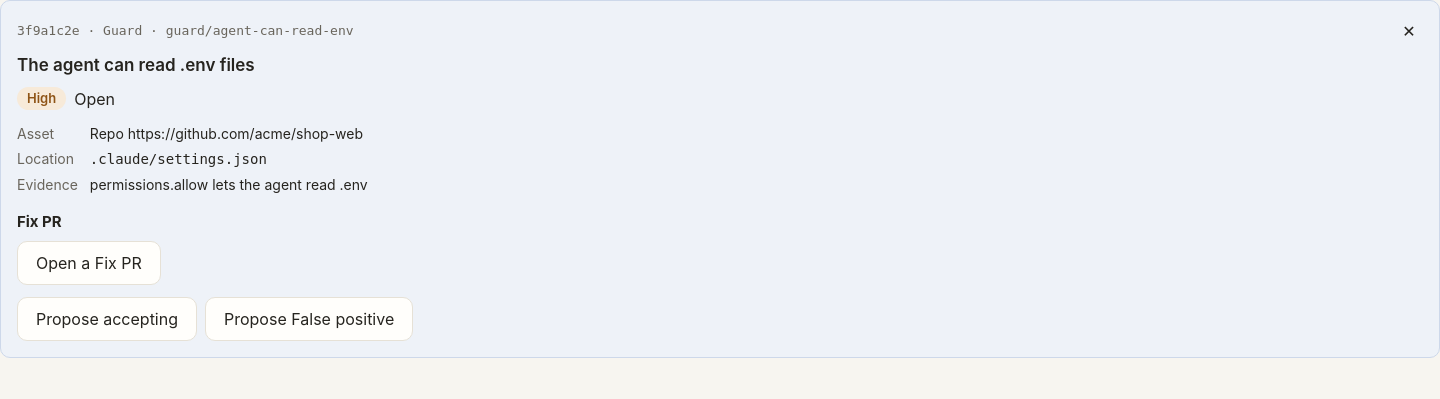
Test: opening a Fix PR › a 409 shows the server's words in an alert, asks both reads again and says the Finding changed; a grant gone hides the button
Click the button "Open a Fix PR" at [89, 263], box [17, 241, 161, 285]
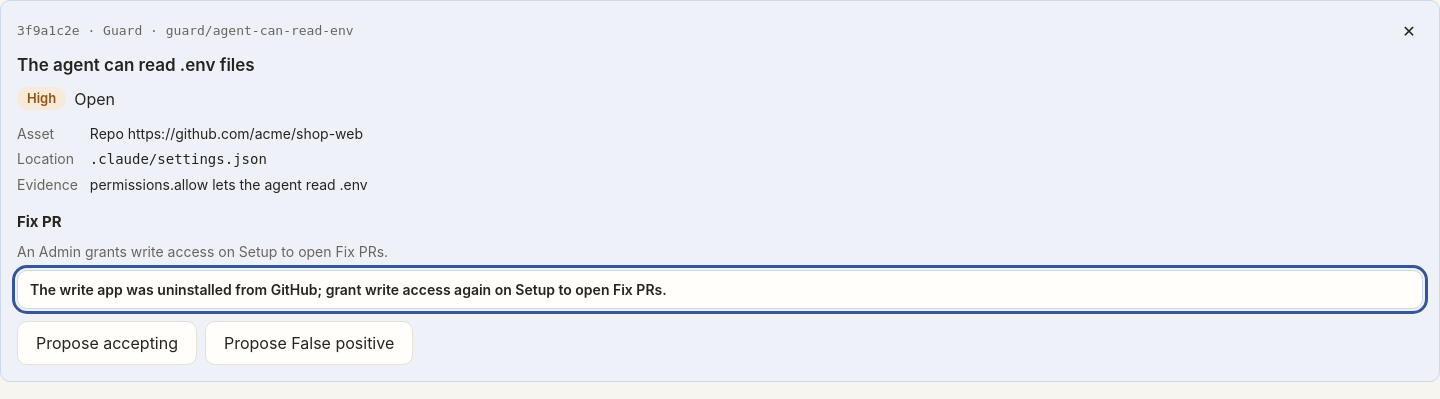
Now the text "An Admin grants write access on Setup to open Fix PRs." is shown, box [17, 243, 388, 260]
Now the button "Open a Fix PR" is gone
